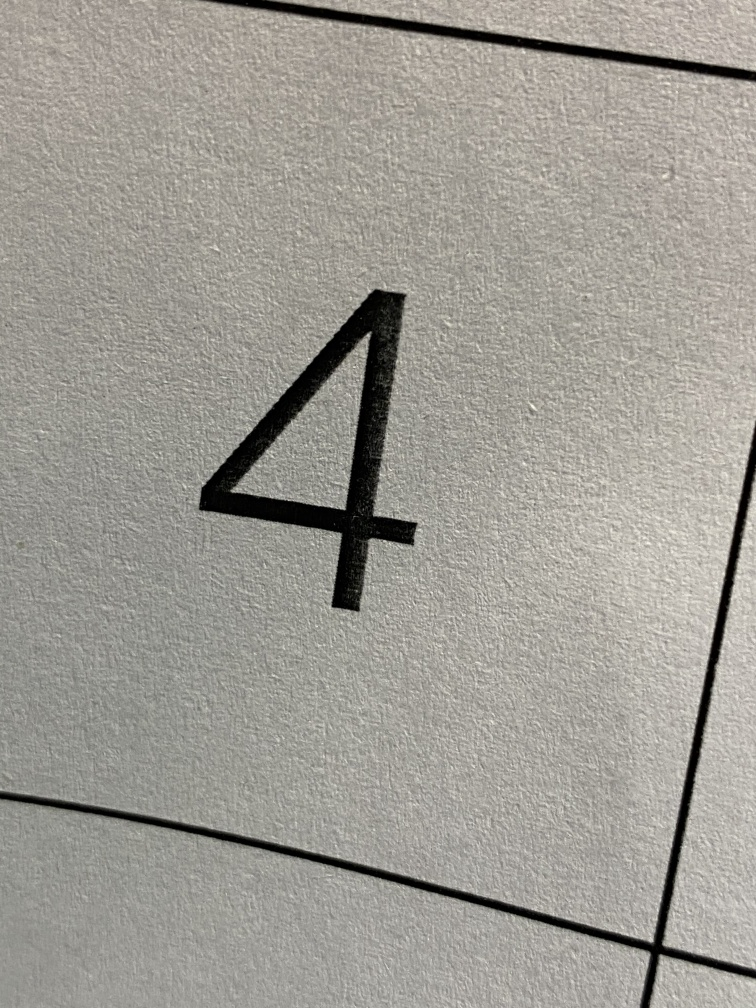four: (162, 218, 490, 701)
